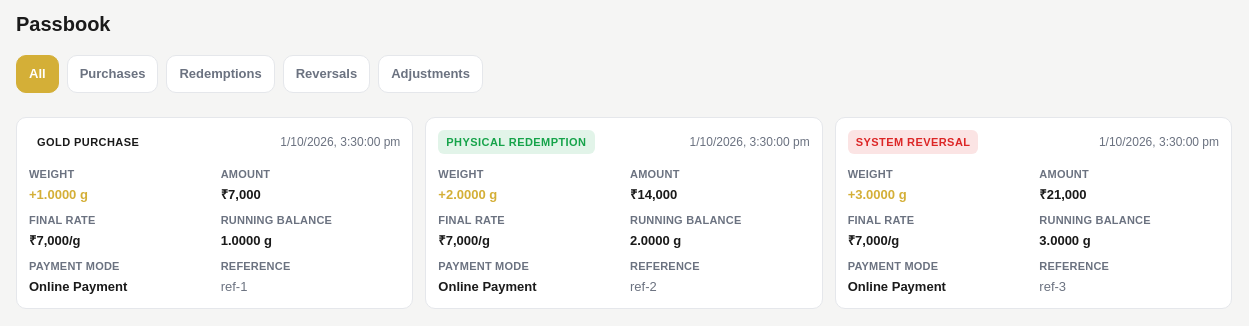
Test: Passbook › filters › narrows the list to the chosen type
Check: the text "Gold Purchase" is shown, box [37, 136, 139, 148]
Click the button "Redemptions". click: (221, 74)
box: [166, 55, 275, 92]
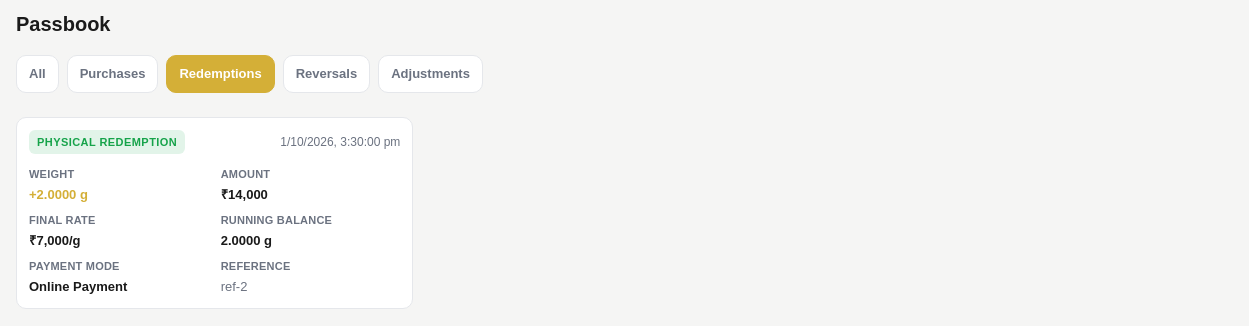
Check: the text "Physical Redemption" is shown, box [29, 130, 185, 154]
Check: the text "Gold Purchase" is gone
Check: the text "System Reversal" is gone
